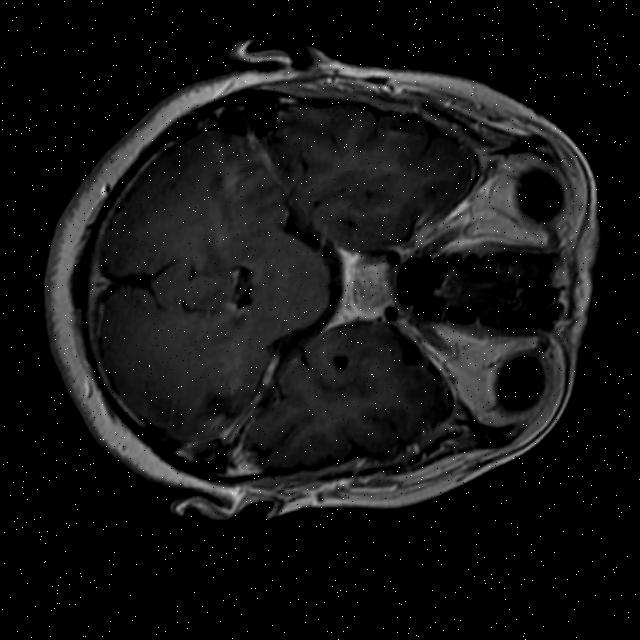Pituitary: (346, 257, 401, 317)
